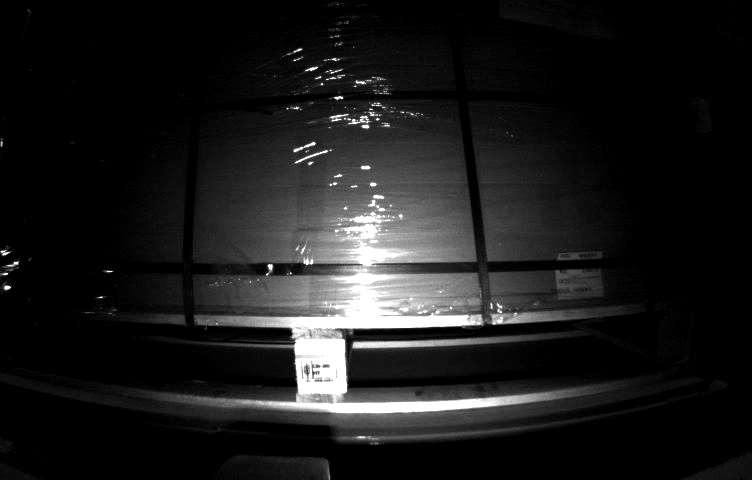True Barcode: (558, 254, 604, 297)
